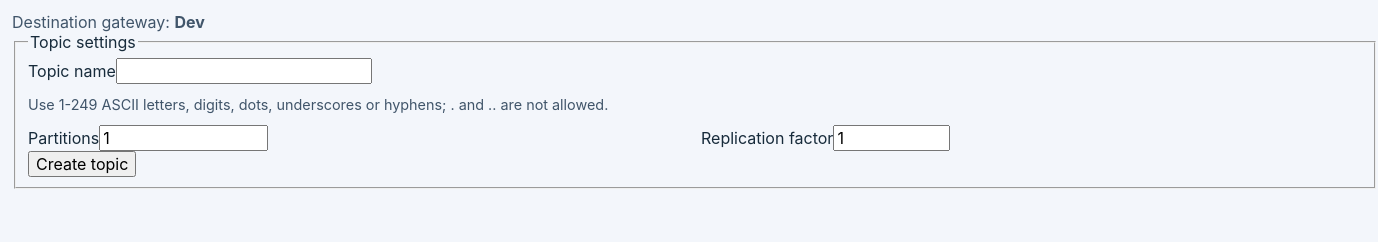
CreateTopic › validates before sending and refreshes topic lists across gateway aliases
This screenshot has width=1378, height=242.
Click the button "Create topic".
click(82, 164)  # box [28,151,136,177]
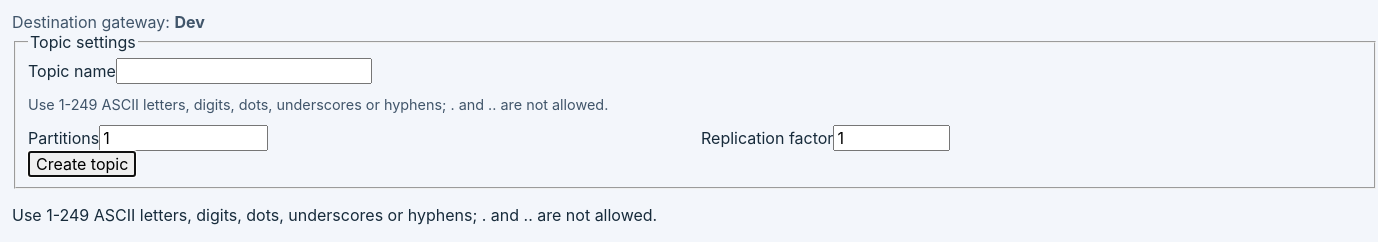
Result: the message shows "1-249" at [12,205,657,225]
Type "orders" into the field labelled "Topic name".
click(244, 71); type("orders")  # box [116,58,372,84]
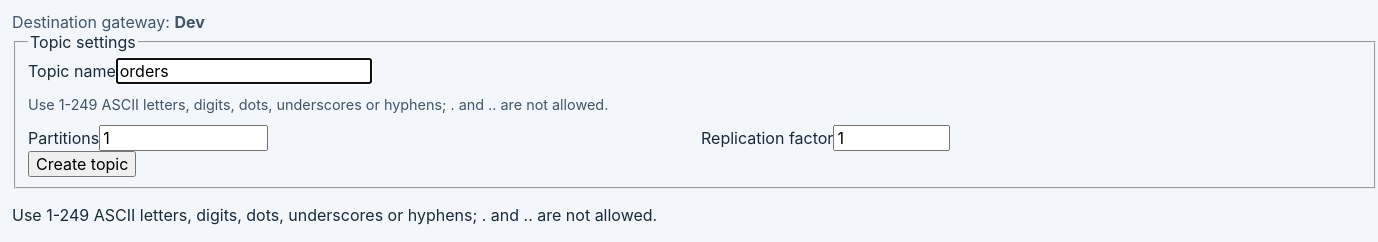
Replace the text in the number field labelled "Partitions" with "3" at (184, 138), box [99,125,268,151]
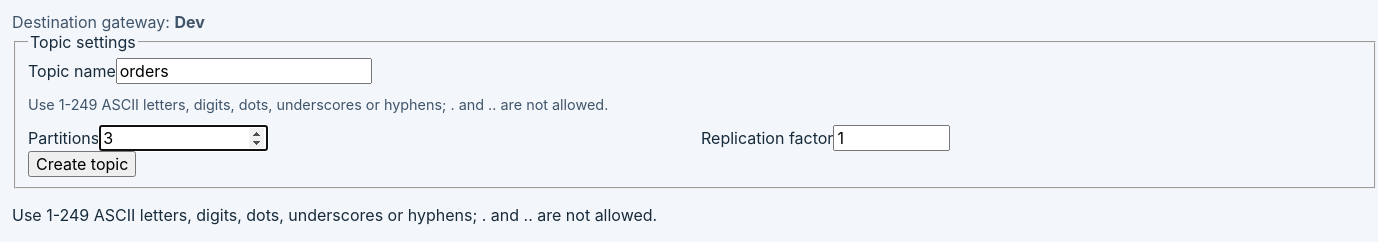
Replace the text in the number field labelled "Replication factor" with "2" at (892, 138), box [833,125,950,151]
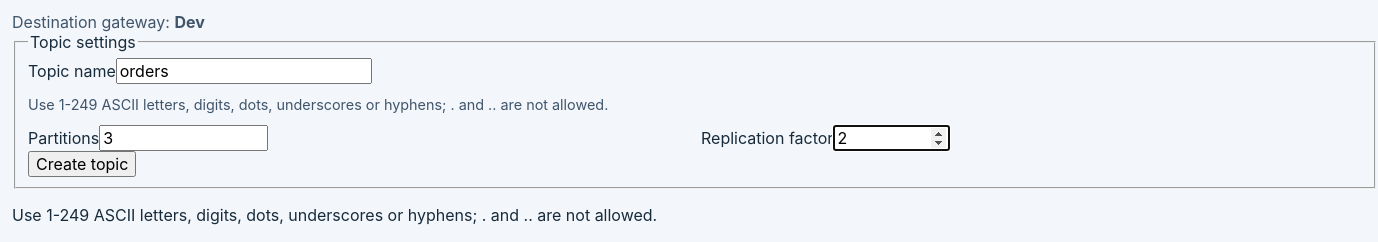
Click the button "Create topic".
click(82, 164)  # box [28,151,136,177]
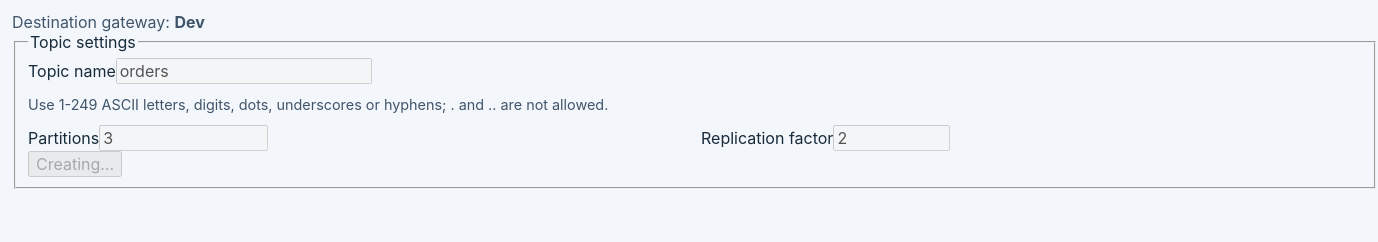
Submit the form named "Create topic"
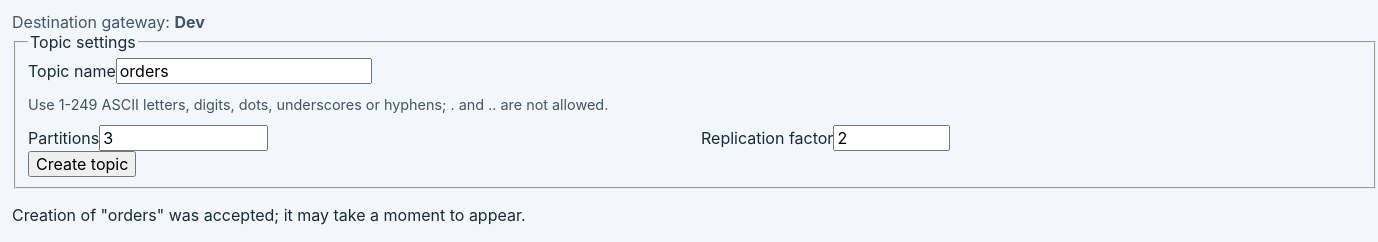
Result: the message shows "Creation of \"orders\" was accepted" at [12,205,526,225]
